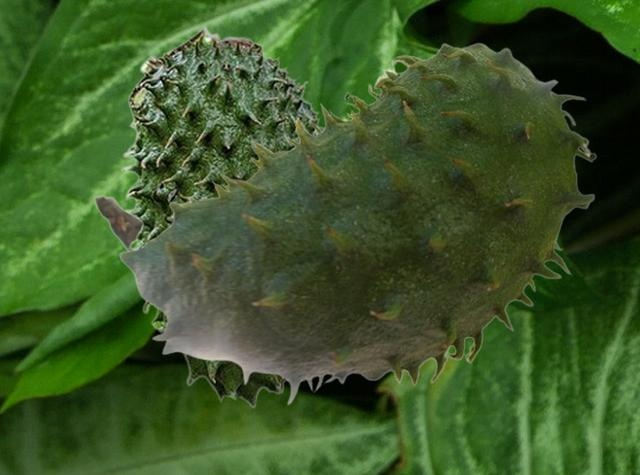guyabano: (93, 42, 596, 405), (121, 25, 323, 407)
